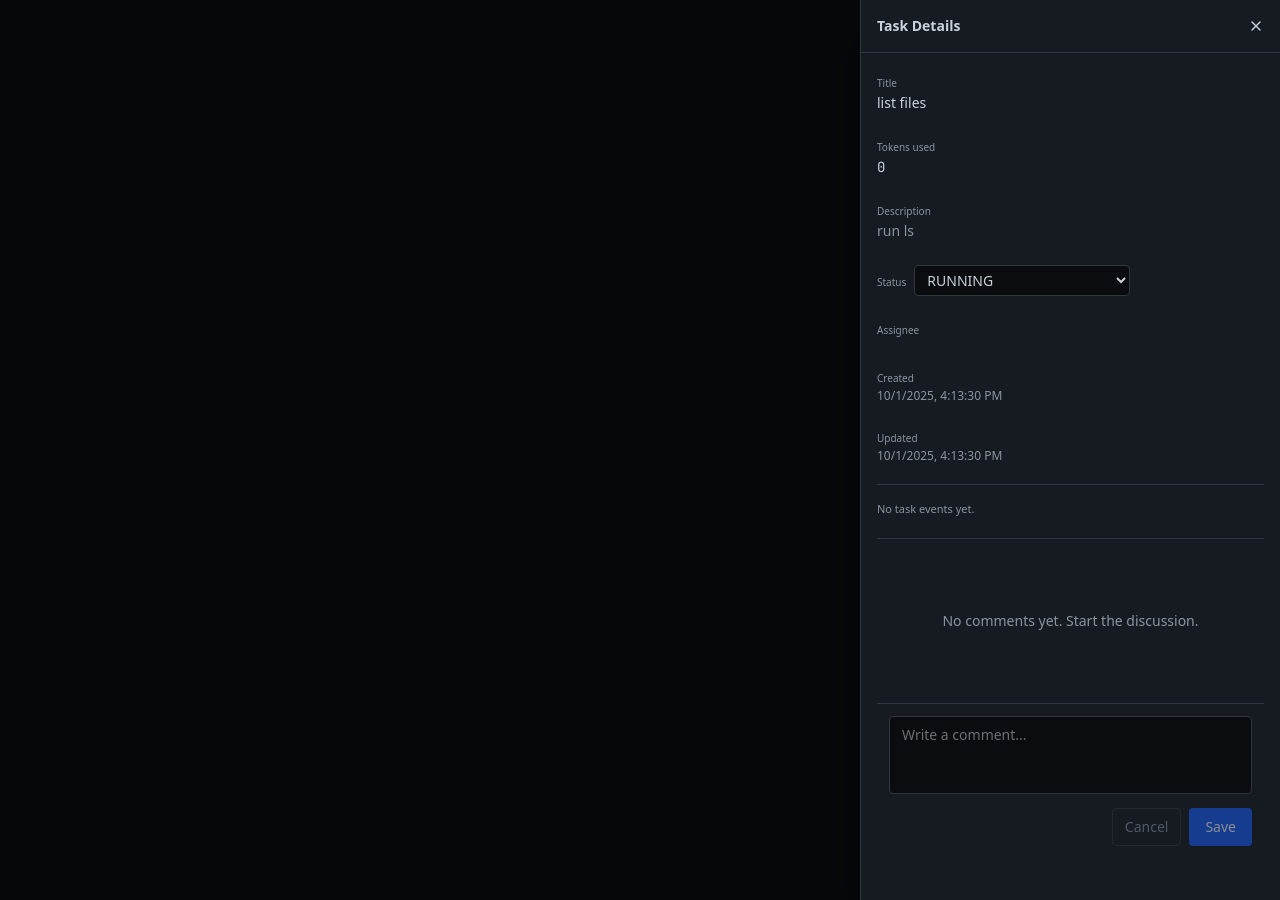
Scenario: TaskDrawer failed edits › shows the daemon's message and reverts a rejected status change
The width and height of the screenshot is (1280, 900).
Select "PENDING" in the dropdown at coordinates (1022, 280), box [914,265,1130,296]
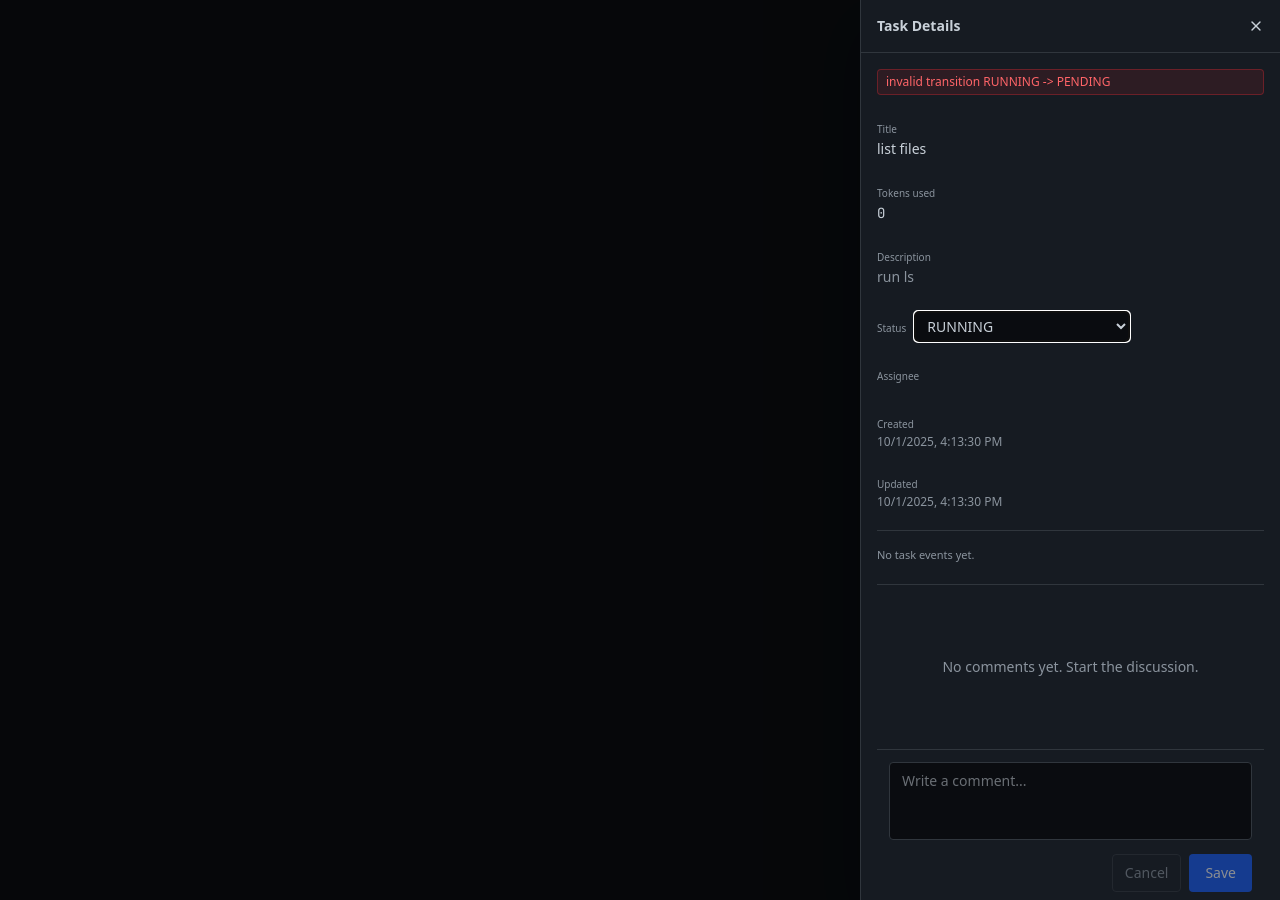
Now the message reads "invalid transition RUNNING -> PENDING", box [886,73,1110,90]
